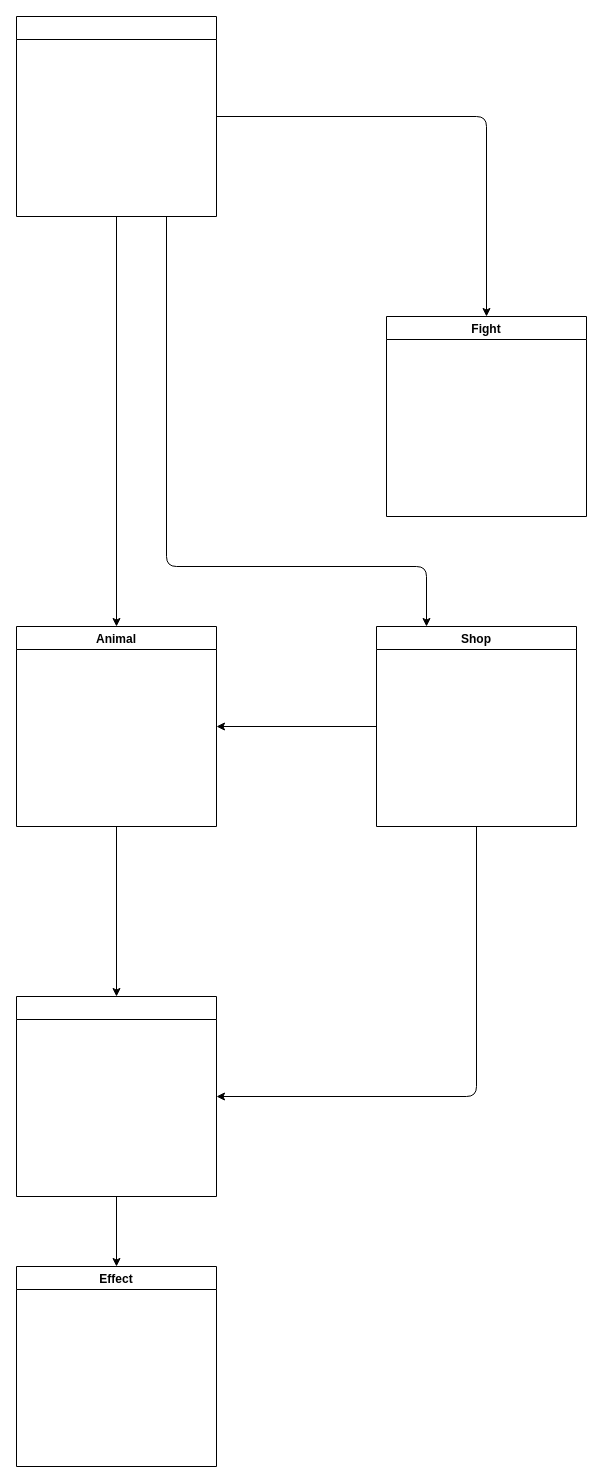
The diagram is 603 pixels wide and 1483 high, and some of its shapes have lost their labels. The shapes that lost their labels are listed below. From the top down, each one's box as (x1, y1, x2, y2) in pixels, then its label:
(16, 16, 216, 216): Team
(16, 996, 216, 1196): Item
